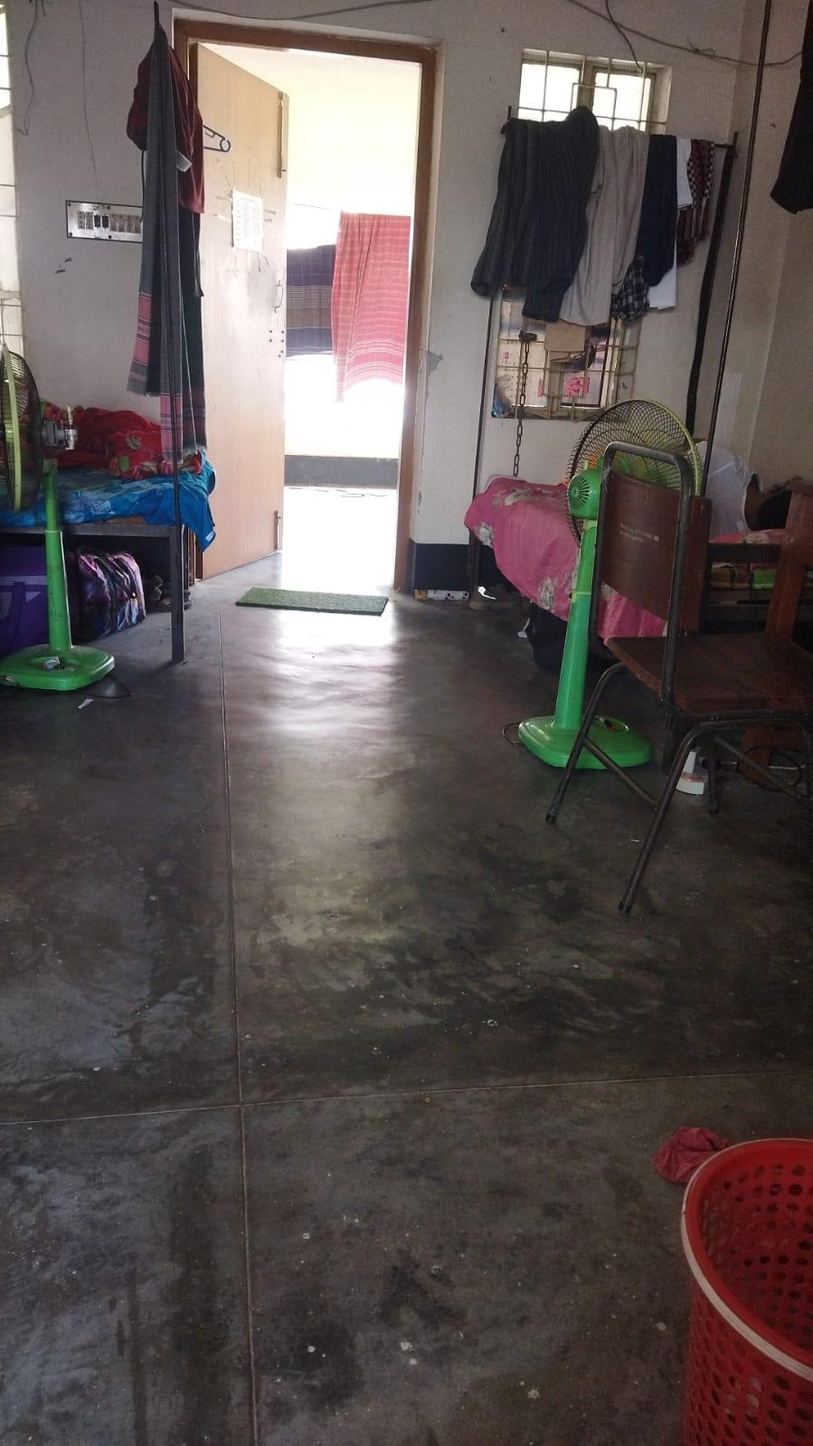Basket: (672, 1104, 813, 1442)
Chair: (558, 426, 800, 928)
Door: (189, 31, 294, 588)
Fan: (529, 371, 703, 774), (2, 311, 115, 714)
Floor Mat: (239, 571, 395, 619)
